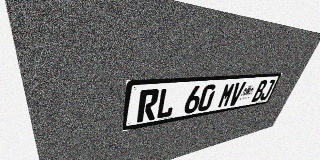0: (196, 84, 217, 112)
6: (183, 85, 204, 114)
B: (251, 80, 268, 102)
J: (259, 79, 276, 101)
L: (155, 87, 178, 119)
M: (217, 83, 236, 108)
R: (136, 89, 160, 123)
V: (227, 82, 246, 106)
